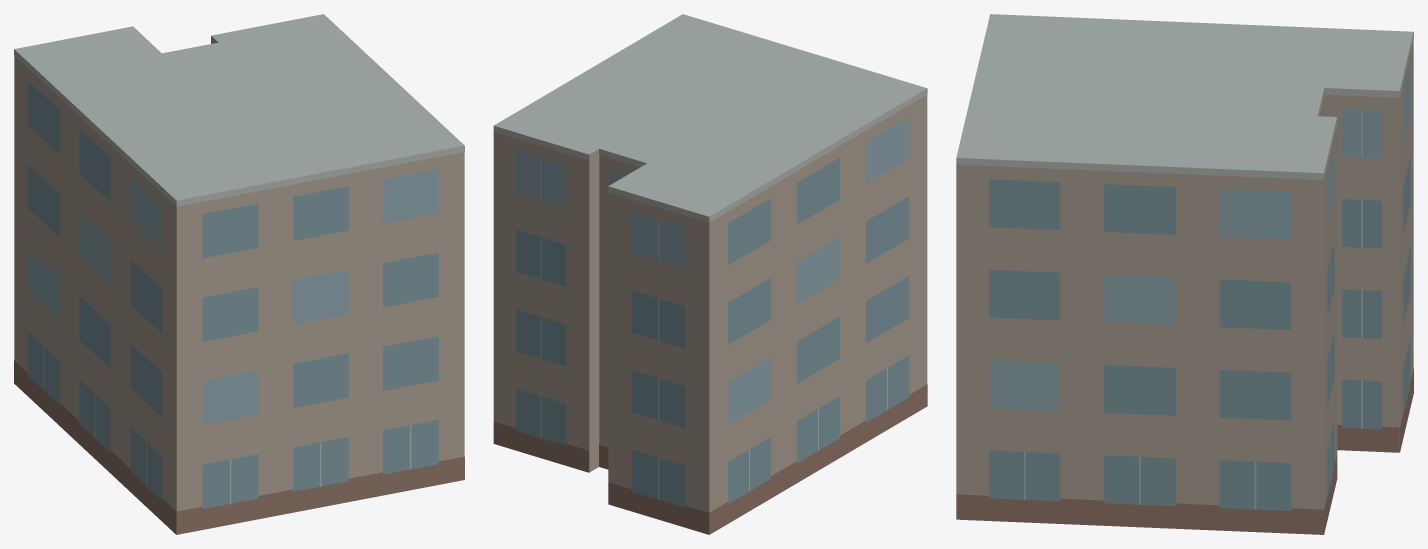
File: survey-upis-32824485.glb
3 views of the same model, side by side, from view 1: azimuth 30°, elevation 25°; view 2: azimuth 150°, elevation 25°; view 3: azimuth 270°, elevation 25° (orthographic). The views are drawn at different scales.
Visible parts, largest first — view 1: survey-upis-32824485.tmp; view 2: survey-upis-32824485.tmp; view 3: survey-upis-32824485.tmp.
Part boxes in pixels (x1,y1,x2,y2): survey-upis-32824485.tmp: (14,14,464,534); survey-upis-32824485.tmp: (493,14,927,534); survey-upis-32824485.tmp: (956,14,1413,534).
Bounding box in the file's own units: 12.19 × 12.9 × 14.8.
